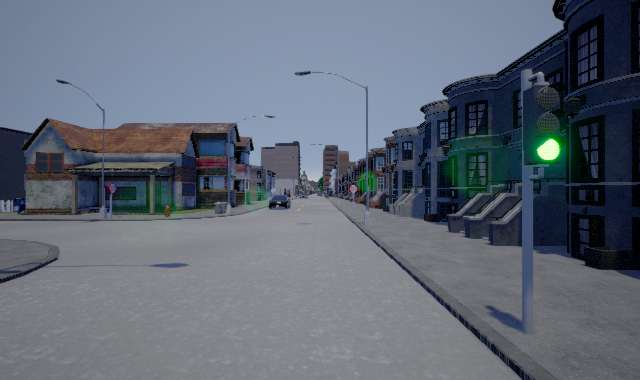traffic_light: (523, 72, 566, 181)
traffic_sign: (108, 183, 116, 194), (349, 185, 358, 193)
vehicle: (269, 195, 291, 209)
